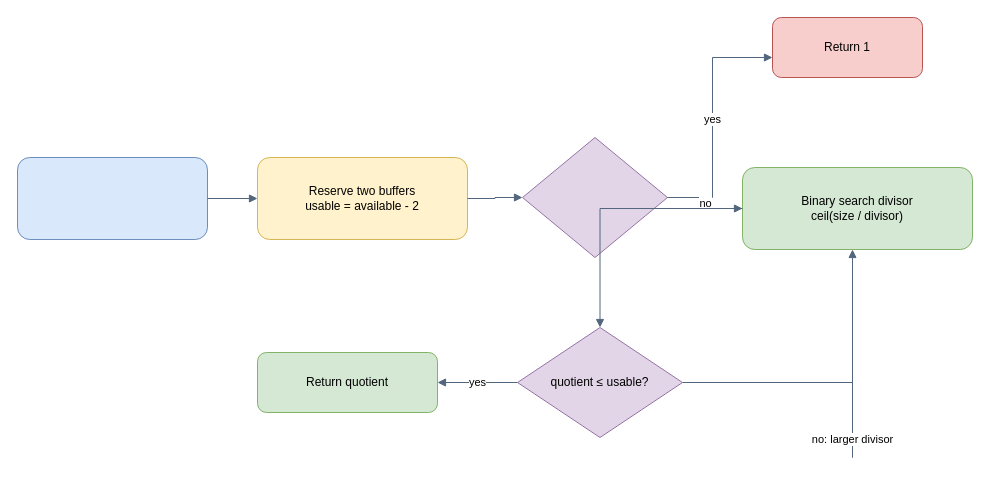
The diagram is 990 pixels wide and 483 high, and some of its shapes have lost their labels. The centre of each missing label's shape, as x and y in pixels:
"Inputs available buffers; relation blocks" goes at (x=112, y=198).
"usable ≤ 1 or size ≤ 1?" goes at (x=595, y=197).
